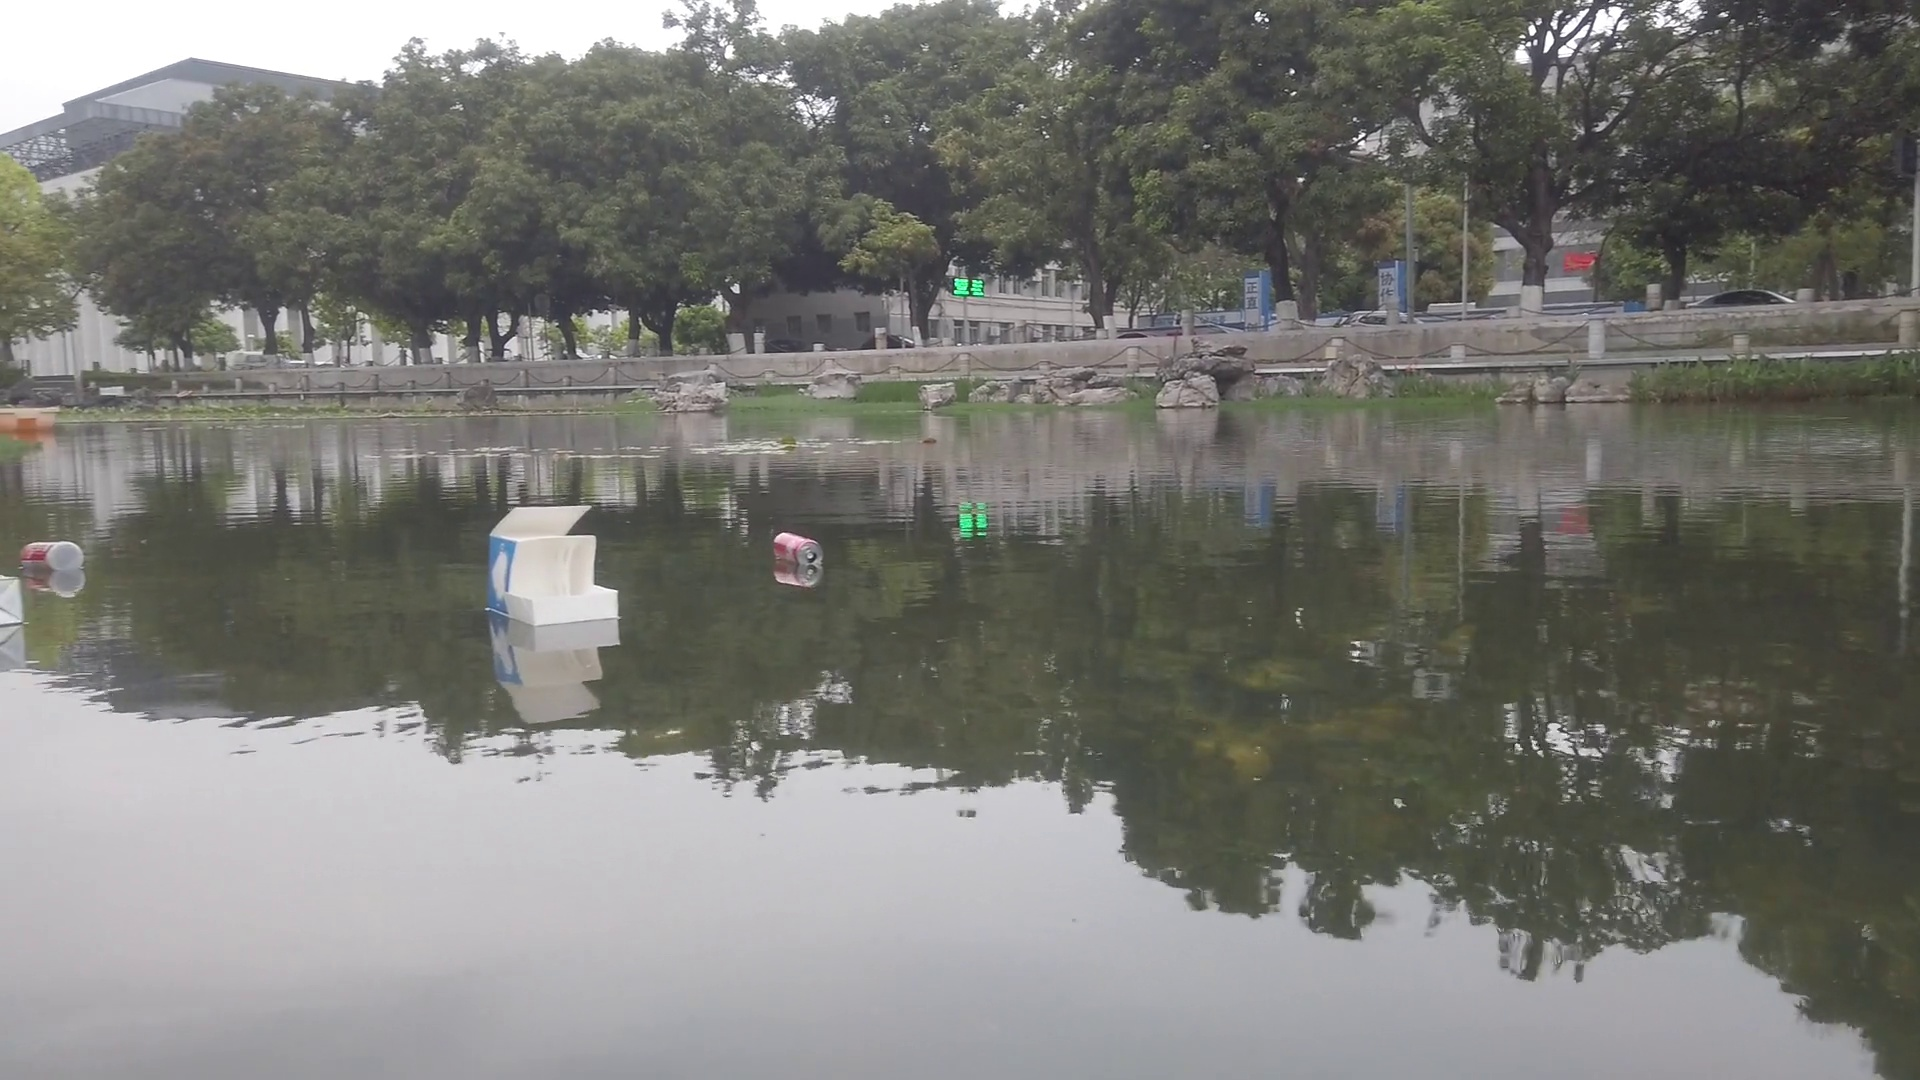bottle: (771, 527, 822, 570), (18, 539, 83, 571)
carton: (485, 506, 622, 624)
